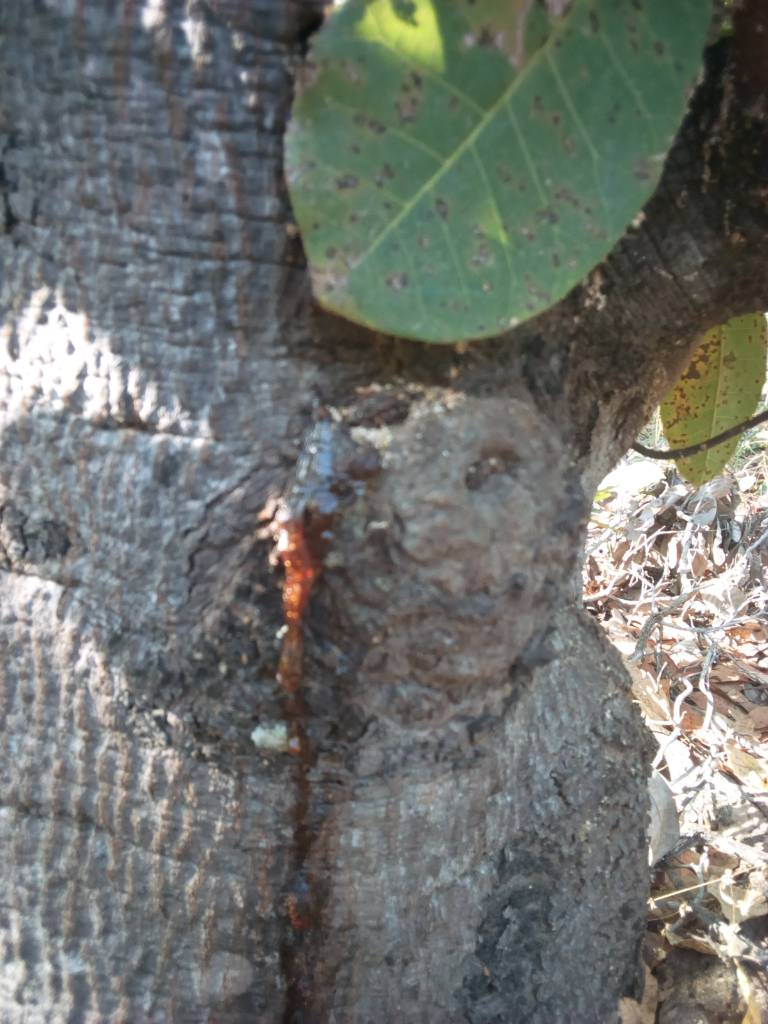Gommose: (249, 403, 349, 1024)
